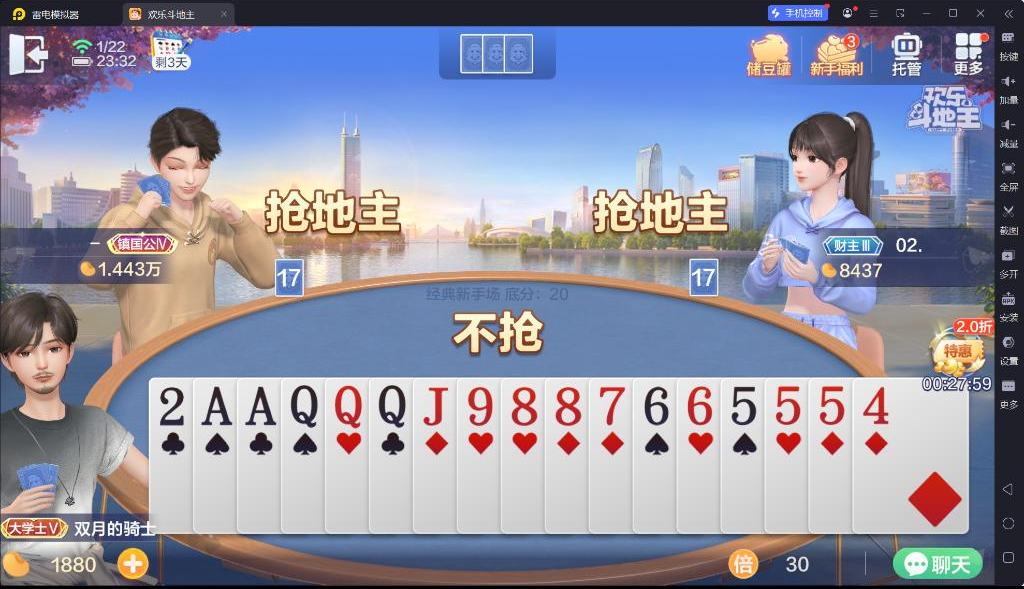A: (199, 382, 235, 428), (243, 382, 277, 428)
J: (419, 385, 449, 428)
Q: (286, 383, 319, 429), (332, 383, 364, 429), (375, 383, 407, 429)
eight: (552, 384, 585, 428), (508, 385, 540, 428)
five: (726, 382, 760, 428), (770, 383, 804, 427), (815, 383, 847, 427)
four: (861, 384, 893, 426)
nine: (462, 385, 494, 428)
seven: (596, 384, 627, 428)
six: (682, 381, 716, 426), (639, 382, 669, 428)
two: (157, 383, 188, 429)
